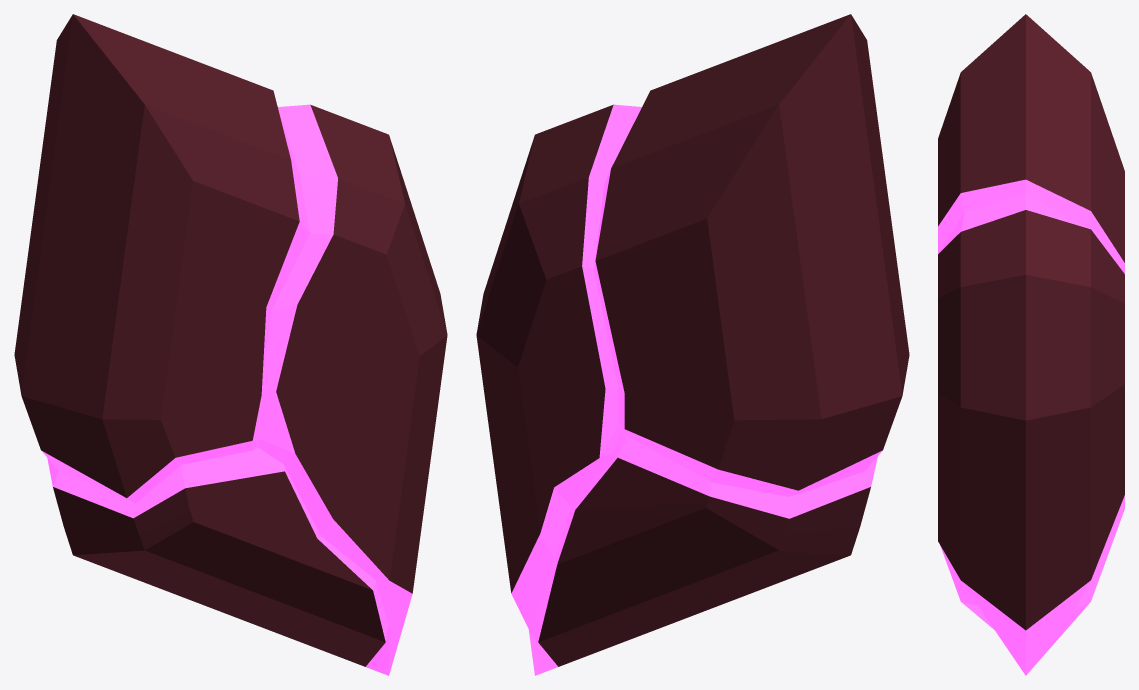
Rendered from m_RuneTextured.fbx.
The picture shows the model from 3 angles, left to right: view 1: azimuth 30°, elevation 25°; view 2: azimuth 150°, elevation 25°; view 3: azimuth 270°, elevation 25°; orthographic projection. The views are drawn at different scales.
Visible parts, largest first — view 1: Cube; view 2: Cube; view 3: Cube.
Part boxes in pixels (x1,y1,x2,y2): Cube: (14, 14, 447, 675); Cube: (476, 14, 909, 675); Cube: (938, 14, 1124, 675).
Size of the model in its own units: 20.2 by 34.05 by 10.53.
